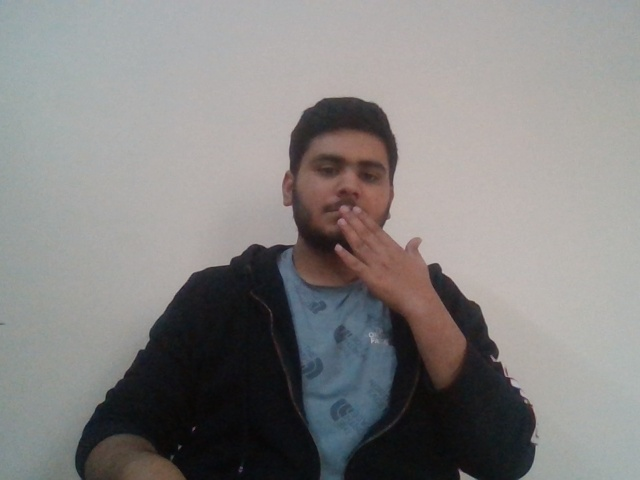Thanks: (307, 192, 435, 304)
